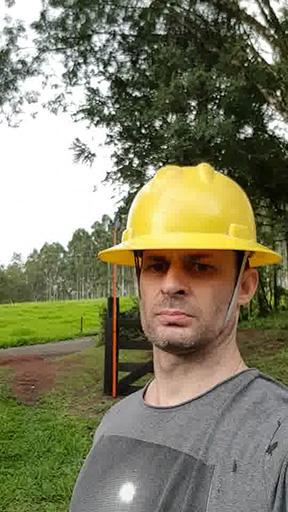Vara_Manobra: (109, 231, 118, 399)
